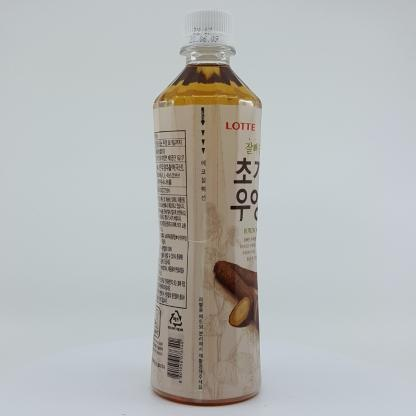----------500ML: (150, 8, 262, 407)
